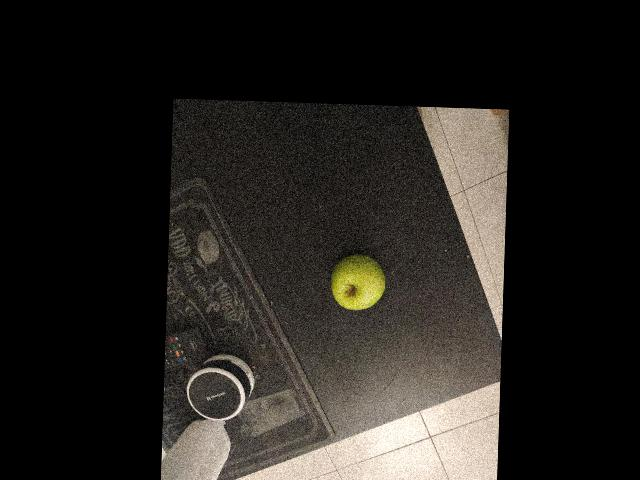apple: (395, 381, 490, 442)
